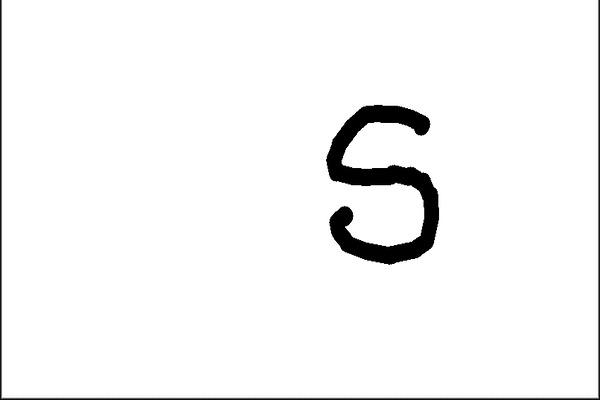S: (313, 96, 444, 268)
